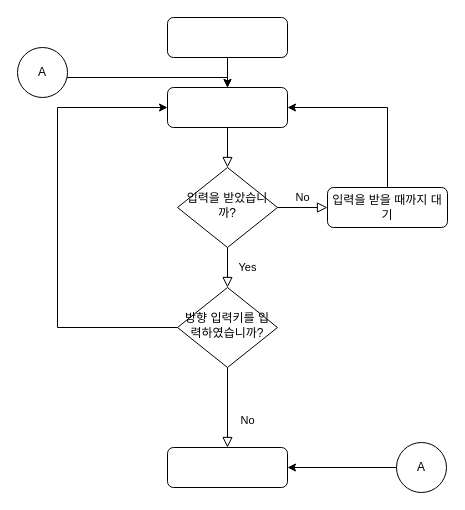
Some shapes in this 465 by 510 pixel diagram are drawn without their labels. Each missing label, with the centre of its shape:
"게임 시작" goes at (x=227, y=37).
"게임 종료" goes at (x=227, y=467).
"안내 출력" goes at (x=227, y=107).
